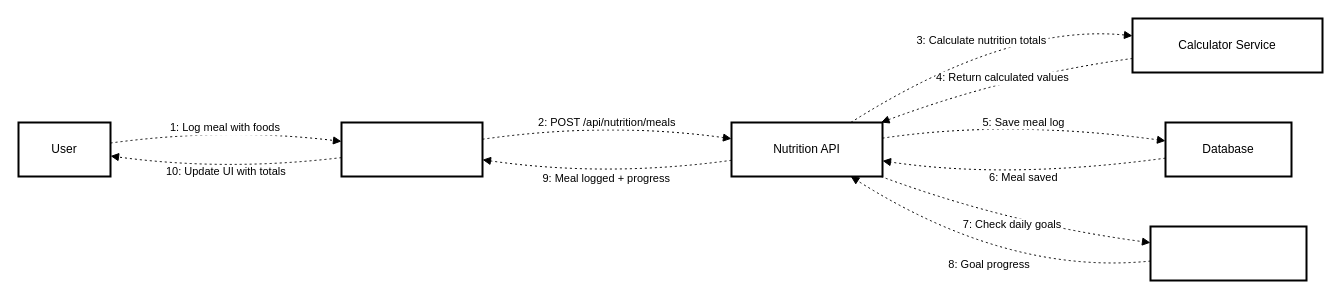
The diagram is 1340 pixels wide and 298 high, and some of its shapes have lost their labels. Here are the shapes that lost their labels. From the top down, the centre of each, then its label:
point 411,149: Flutter App
point 1228,253: Goals Service
